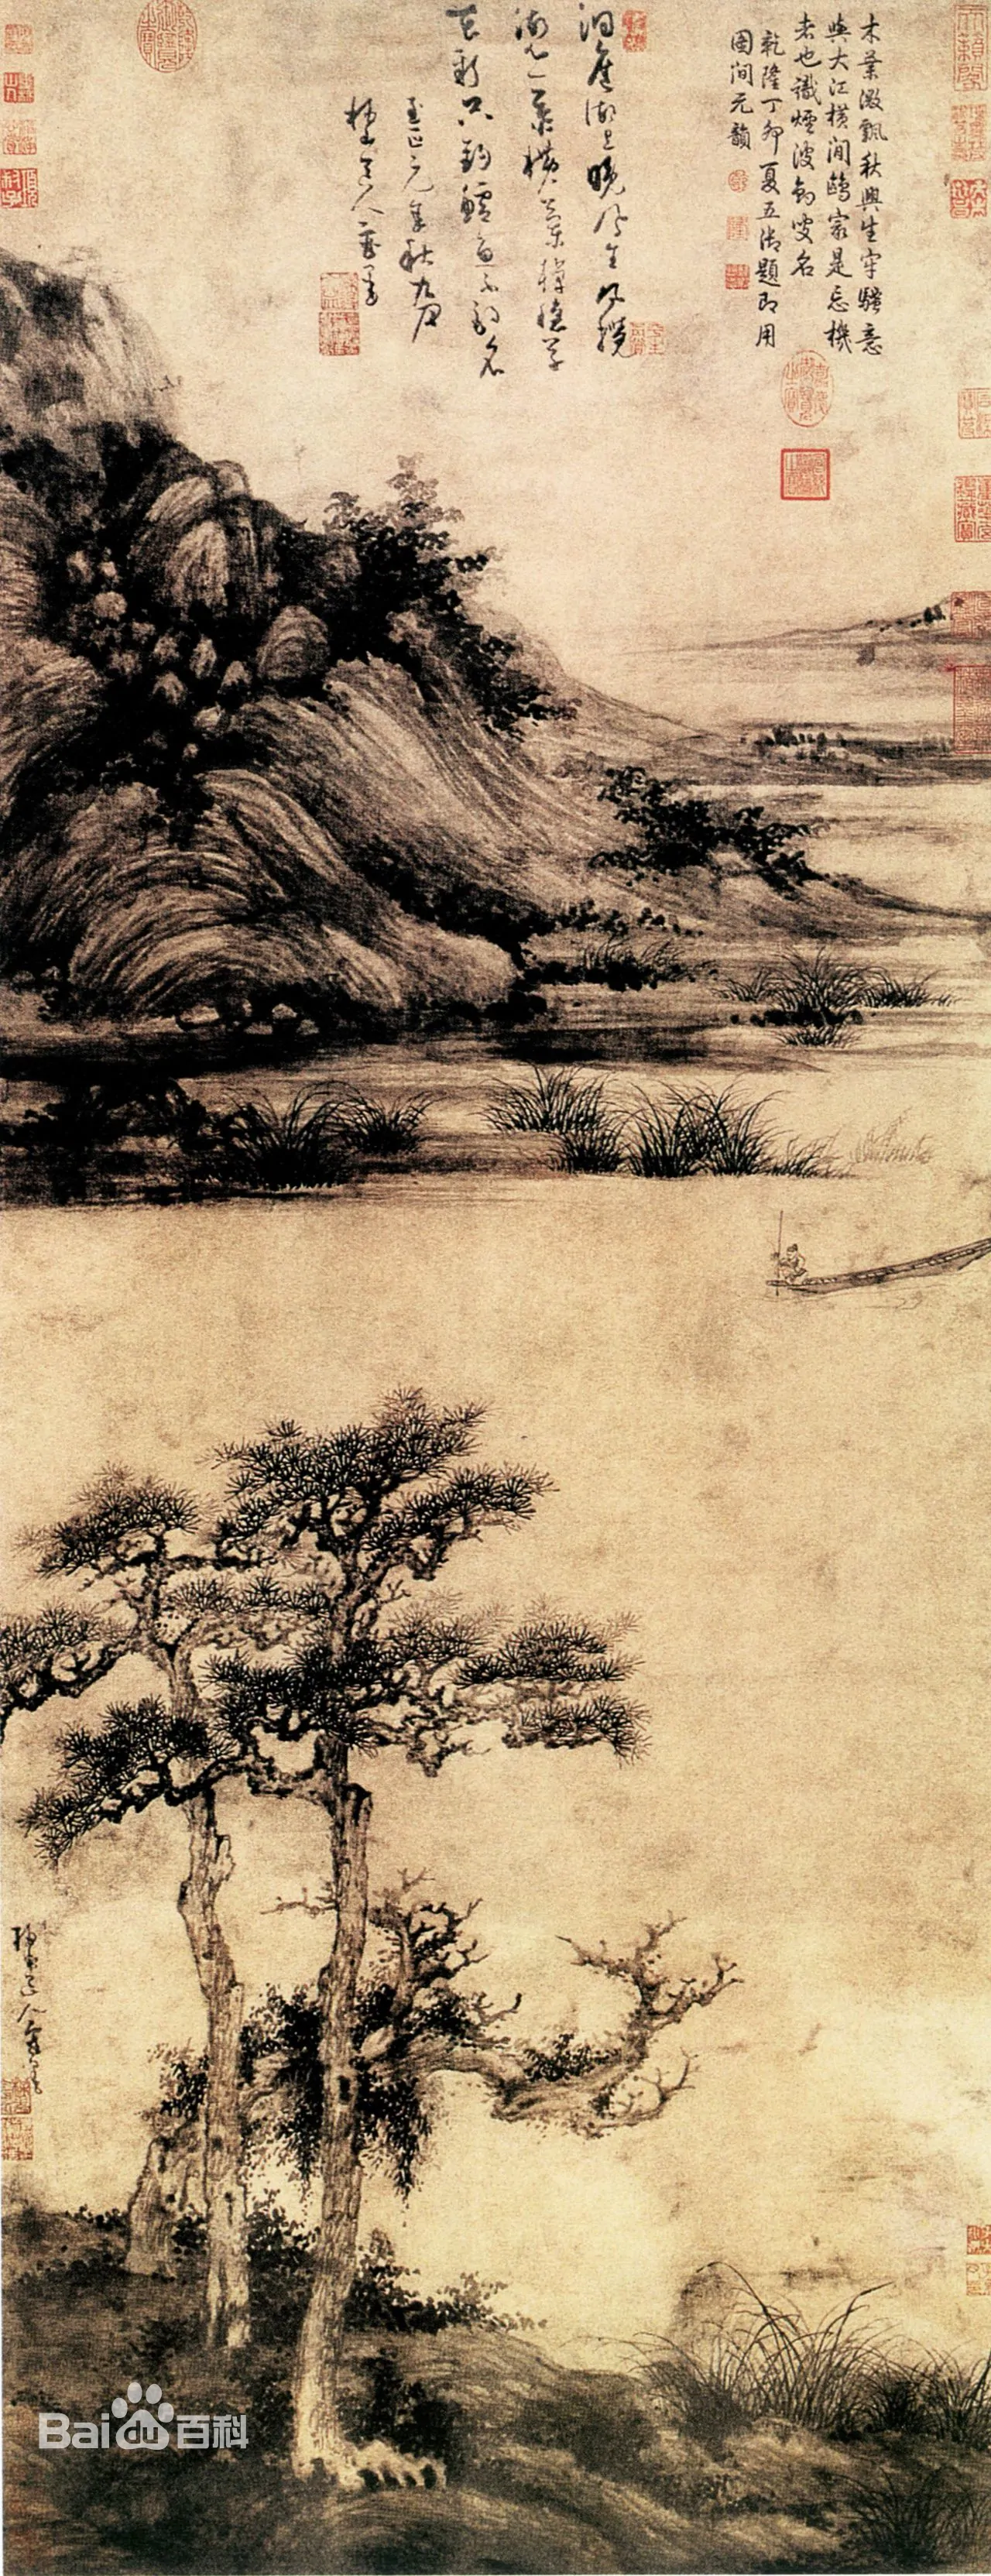grass: (613, 2265, 991, 2471), (467, 1081, 818, 1194), (151, 1096, 437, 1214), (738, 946, 965, 1083)
hill: (2, 258, 866, 1114)
pine: (23, 1393, 756, 2510)
